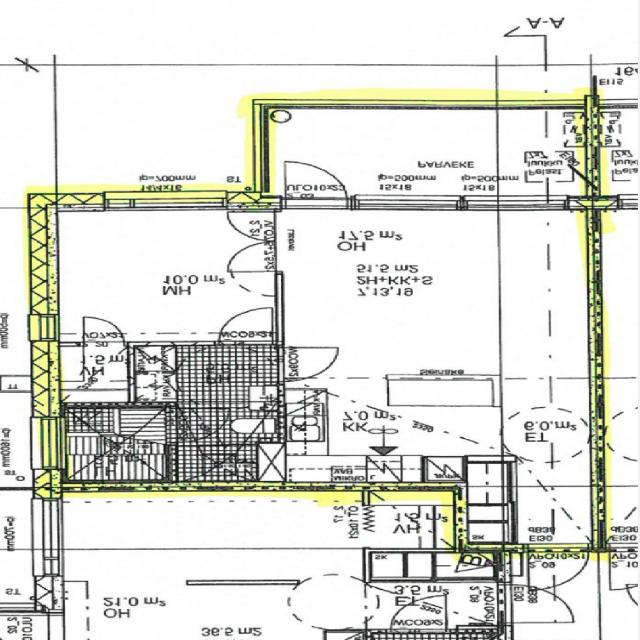door: (286, 158, 348, 210), (529, 544, 589, 590), (165, 408, 233, 442), (218, 308, 272, 346), (277, 348, 339, 381), (228, 212, 284, 242), (228, 242, 284, 272), (84, 316, 124, 346)
